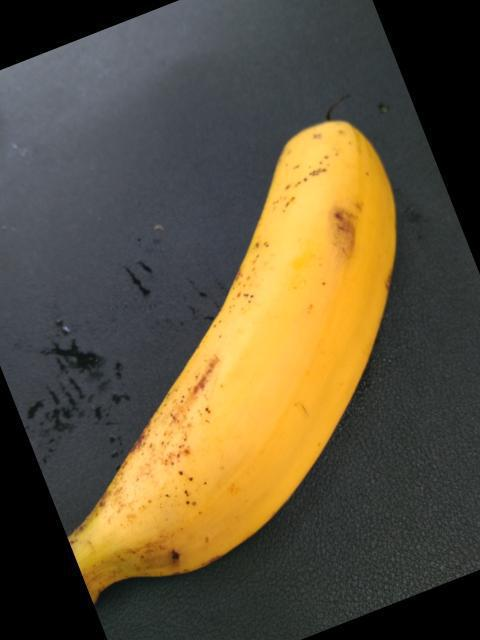ripe: (74, 88, 408, 589)
